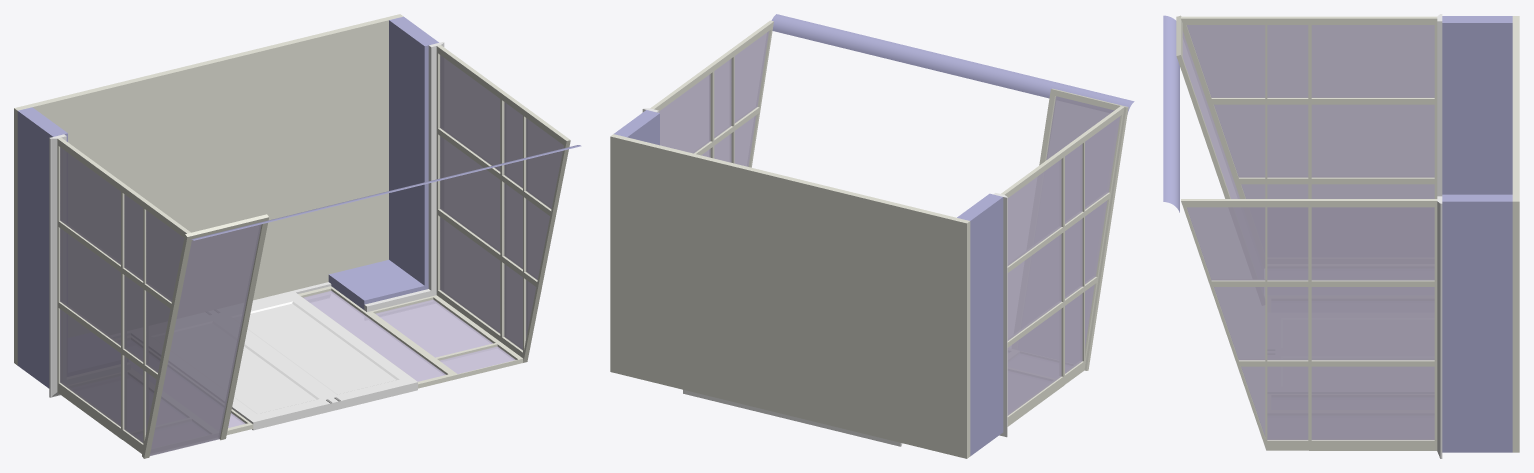
The picture shows the model from 3 angles, left to right: view 1: azimuth 30°, elevation 25°; view 2: azimuth 150°, elevation 25°; view 3: azimuth 270°, elevation 25°; orthographic projection. The views are drawn at different scales.
Parts seen in each view (by area): view 1: group_0, group_3 (×6), FD1600, group_51, group_5, group_30 (×2), group_21 (×2), group_4, Difference (×4), group_2 (×5), group_17 (×2), group_50 (+11 smaller); view 2: group_0, group_4, group_21 (×2), SketchUp, group_3 (×2), group_17 (×2), group_30, group_14 (×2), group_20 (×2), group_50, group_51, group_16 (×2) (+9 smaller); view 3: group_3 (×4), group_5, group_21 (×2), group_4, group_30 (×2), group_17 (×2), group_14 (×2), group_27 (×2), group_2 (×4), group_20 (×2), Difference (×5), group_25 (×2) (+9 smaller).
Part boxes in pixels (bbox=[...]): group_0: bbox=[14, 14, 403, 365]; group_3 (×6): bbox=[60, 136, 522, 381]; FD1600: bbox=[232, 282, 417, 430]; group_51: bbox=[150, 224, 261, 455]; group_5: bbox=[328, 16, 438, 309]; group_30 (×2): bbox=[60, 217, 500, 426]; group_21 (×2): bbox=[60, 55, 500, 264]; group_4: bbox=[17, 107, 67, 388]; Difference (×4): bbox=[49, 42, 556, 397]; group_2 (×5): bbox=[57, 128, 523, 388]; group_17 (×2): bbox=[146, 118, 563, 302]; group_50: bbox=[142, 214, 269, 458]; group_0: bbox=[610, 134, 970, 458]; group_4: bbox=[957, 193, 1003, 456]; group_21 (×2): bbox=[659, 74, 1061, 265]; SketchUp: bbox=[771, 14, 1134, 114]; group_3 (×2): bbox=[1007, 218, 1082, 340]; group_17 (×2): bbox=[734, 31, 1120, 209]; group_30: bbox=[1007, 309, 1061, 415]; group_14 (×2): bbox=[714, 58, 1082, 224]; group_20 (×2): bbox=[650, 64, 1064, 272]; group_50: bbox=[1039, 88, 1128, 370]; group_51: bbox=[1046, 96, 1114, 159]; group_16 (×2): bbox=[730, 20, 1124, 216]; group_3 (×4): bbox=[1267, 104, 1434, 360]; group_5: bbox=[1442, 194, 1512, 452]; group_21 (×2): bbox=[1311, 25, 1434, 280]; group_4: bbox=[1442, 16, 1512, 194]; group_30 (×2): bbox=[1311, 184, 1434, 440]; group_17 (×2): bbox=[1186, 25, 1265, 280]; group_14 (×2): bbox=[1267, 25, 1308, 280]; group_27 (×2): bbox=[1214, 104, 1265, 360]; group_2 (×4): bbox=[1266, 99, 1437, 366]; group_20 (×2): bbox=[1309, 16, 1437, 286]; Difference (×5): bbox=[1209, 14, 1442, 458]; group_25 (×2): bbox=[1267, 184, 1308, 440].
Size of the model in its own units: 151 by 95.91 by 120.
